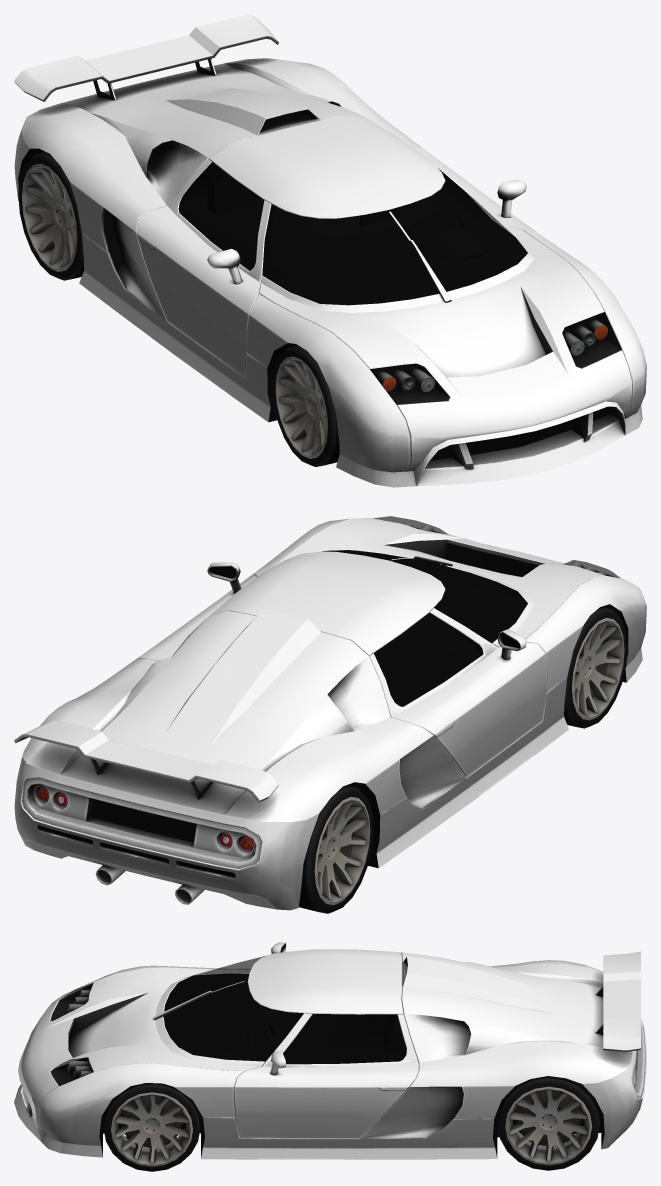
File: voiture_coupe.glb
3 views of the same model, one above another, from view 1: azimuth 30°, elevation 25°; view 2: azimuth 150°, elevation 25°; view 3: azimuth 270°, elevation 25° (orthographic). The views are drawn at different scales.
Visible parts, largest first — view 1: body, wheel_rr, wheel_fr; view 2: body, wheel_rr, wheel_fr; view 3: body, wheel_rl, wheel_fl.
Boxes of the visible parts, bbox=[...] form: body: bbox=[14, 14, 646, 487]; wheel_rr: bbox=[18, 152, 84, 280]; wheel_fr: bbox=[272, 345, 339, 466]; body: bbox=[14, 516, 646, 910]; wheel_rr: bbox=[299, 785, 373, 913]; wheel_fr: bbox=[564, 606, 627, 728]; body: bbox=[14, 942, 646, 1159]; wheel_rl: bbox=[497, 1076, 599, 1170]; wheel_fl: bbox=[103, 1083, 200, 1171].
Bounding box in the file's own units: 1.99 × 1.17 × 4.4.
Materials: 4 (3 with a texture image).
